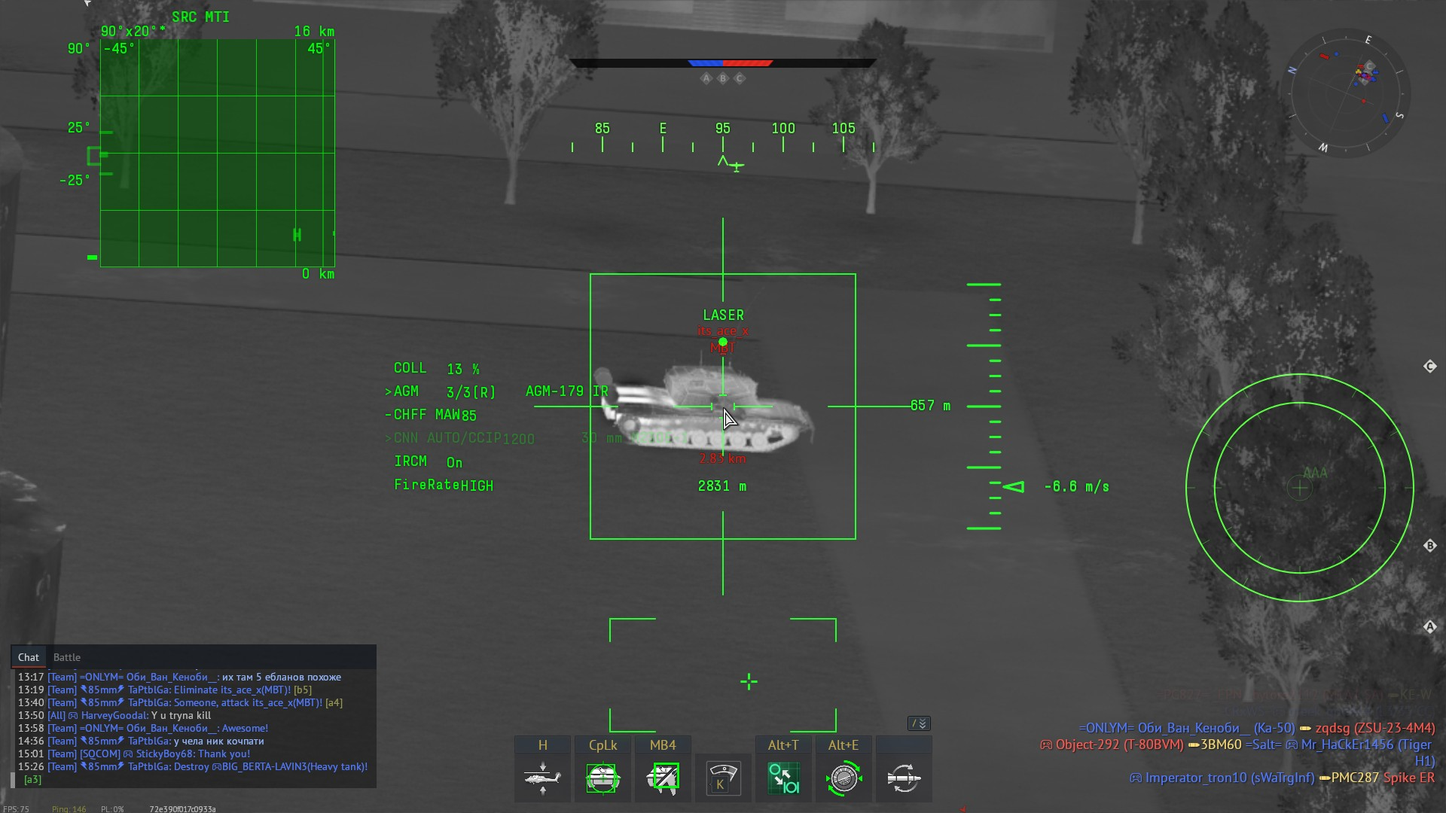abrams: (594, 364, 815, 454)
